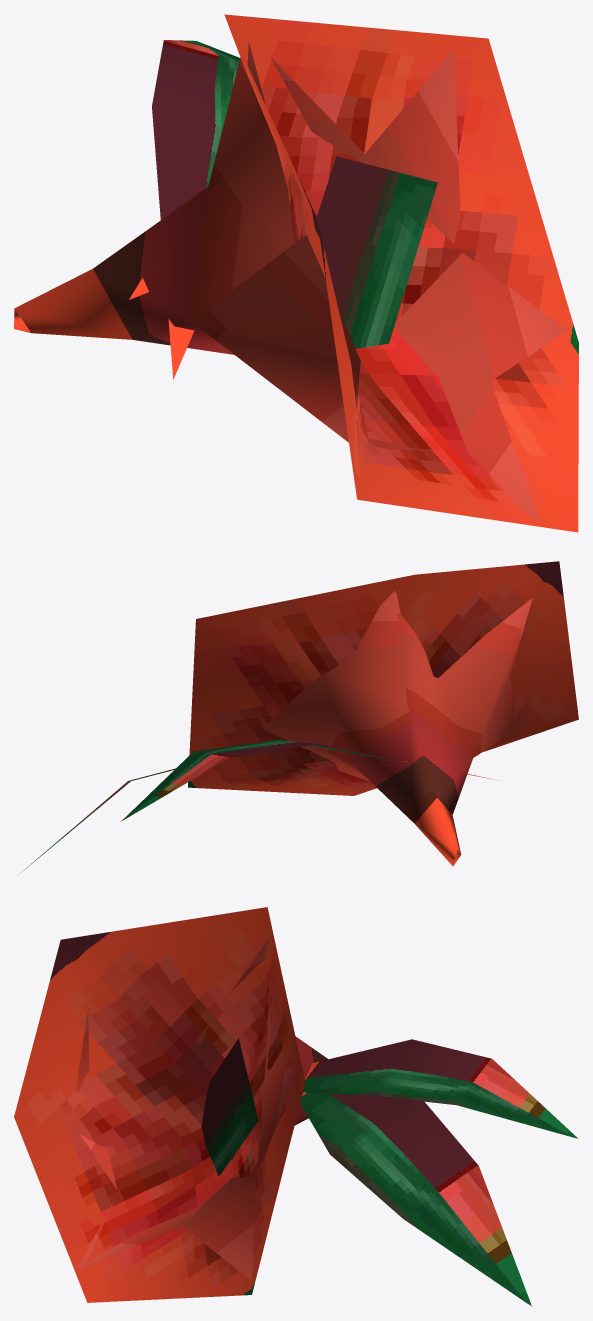
Rendered from flw_yuri_re_cap.dae.
3 views of the same model, one above another, from view 1: azimuth 30°, elevation 25°; view 2: azimuth 150°, elevation 25°; view 3: azimuth 270°, elevation 25° (orthographic). The views are drawn at different scales.
Parts seen in each view (by area): view 1: flw_yuri_re_cap; view 2: flw_yuri_re_cap; view 3: flw_yuri_re_cap.
Boxes of the visible parts, bbox=[...] form: flw_yuri_re_cap: bbox=[14, 14, 578, 532]; flw_yuri_re_cap: bbox=[17, 561, 578, 875]; flw_yuri_re_cap: bbox=[14, 907, 578, 1306].
Bounding box in the file's own units: 10.1 × 8.69 × 13.8.
1 material, 1 textured.
